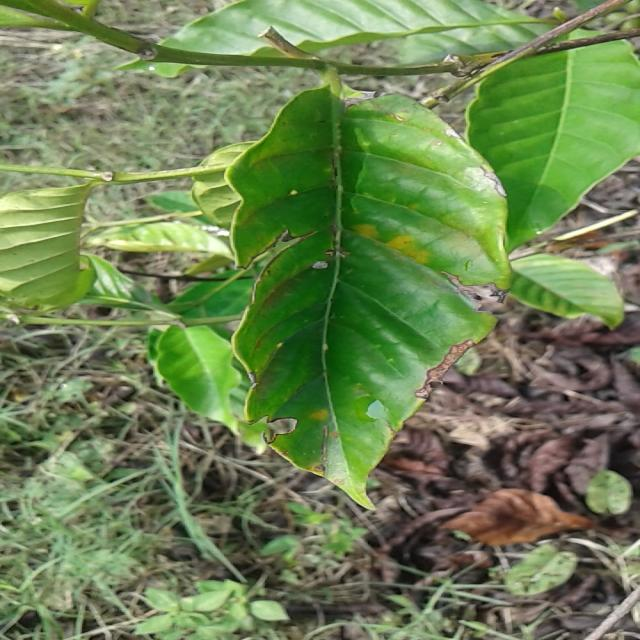Enfermedad-Roya: (227, 88, 513, 501)
